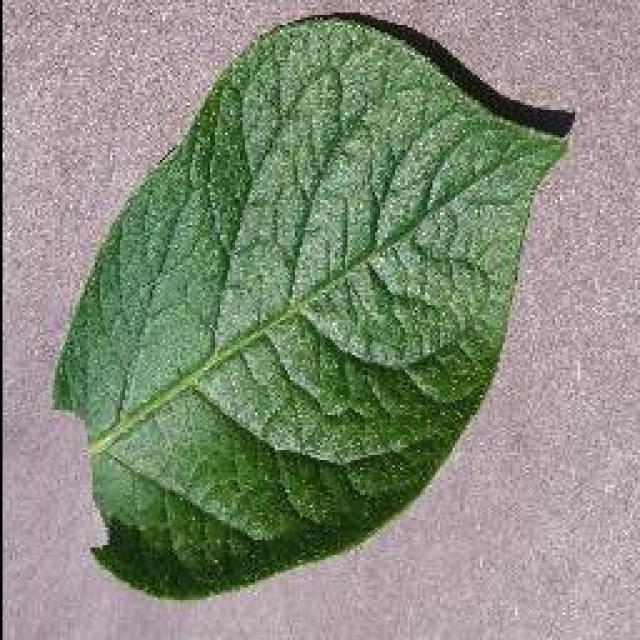Potato___healthy: (50, 16, 571, 605)
